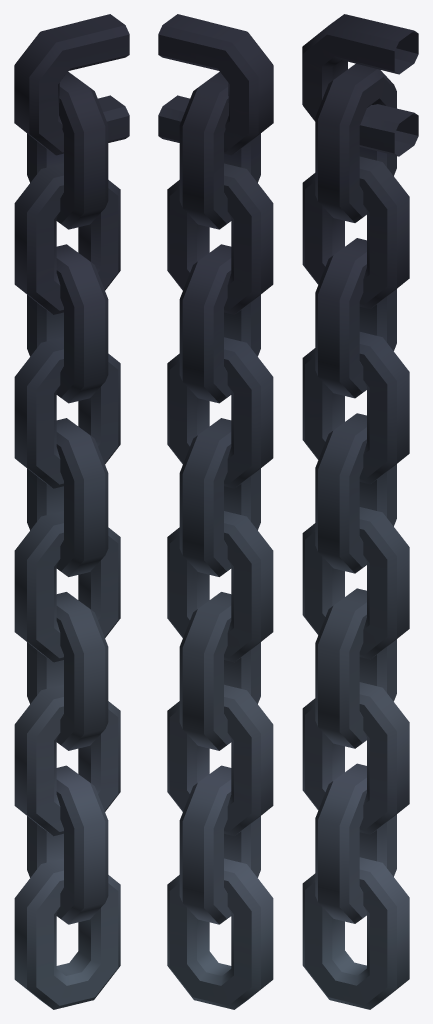
Rendered from Chain_1_3.obj.
3 views of the same model, side by side, from view 1: azimuth 30°, elevation 25°; view 2: azimuth 150°, elevation 25°; view 3: azimuth 330°, elevation 25° (orthographic).
Visible parts, largest first — view 1: Chain_1_3; view 2: Chain_1_3; view 3: Chain_1_3.
Part boxes in pixels (bbox=[...]): Chain_1_3: bbox=[14, 14, 129, 1009]; Chain_1_3: bbox=[158, 14, 273, 1009]; Chain_1_3: bbox=[302, 14, 418, 1009].
Bounding box in the file's own units: 0.1177 × 1.12 × 0.1134.
